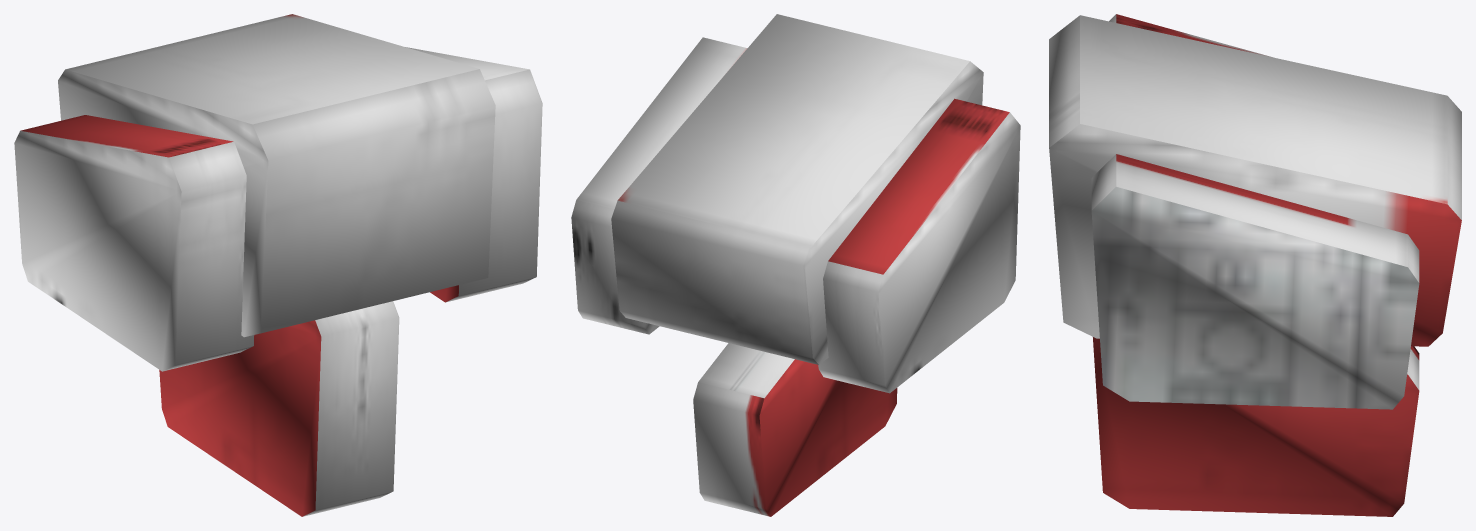
Rendered from weapon01_B.FBX.
3 views of the same model, side by side, from view 1: azimuth 30°, elevation 25°; view 2: azimuth 150°, elevation 25°; view 3: azimuth 270°, elevation 25° (orthographic). The views are drawn at different scales.
Visible parts, largest first — view 1: weapon01; view 2: weapon01; view 3: weapon01.
Boxes of the visible parts, bbox=[...] form: weapon01: bbox=[14, 14, 542, 516]; weapon01: bbox=[571, 14, 1020, 516]; weapon01: bbox=[1049, 14, 1461, 516].
Size of the model in its own units: 87.33 by 101 by 88.2.
